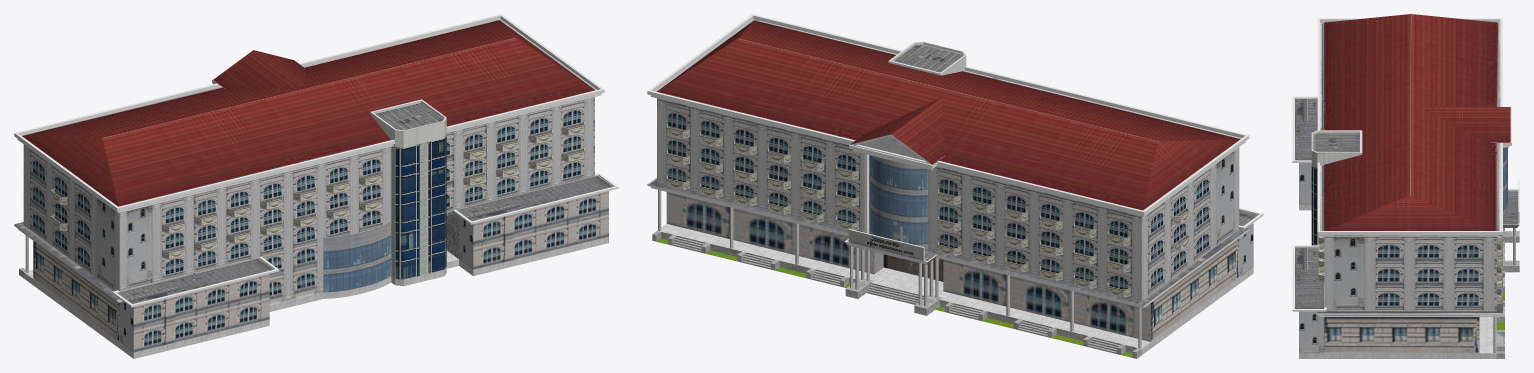
3 renders of one model, left to right at view 1: azimuth 30°, elevation 25°; view 2: azimuth 150°, elevation 25°; view 3: azimuth 270°, elevation 25°, orthographic. The views are drawn at different scales.
Parts seen in each view (by area): view 1: 5c3c4c9ead0223c40c9d127c.001; view 2: 5c3c4c9ead0223c40c9d127c.001; view 3: 5c3c4c9ead0223c40c9d127c.001.
Boxes of the visible parts, x1,y1,x2,y2 form: 5c3c4c9ead0223c40c9d127c.001: (14,14,618,358); 5c3c4c9ead0223c40c9d127c.001: (647,14,1263,358); 5c3c4c9ead0223c40c9d127c.001: (1292,14,1519,358).
Bounding box in the file's own units: 60 × 19.7 × 27.
Materials: 1 (1 with a texture image).
